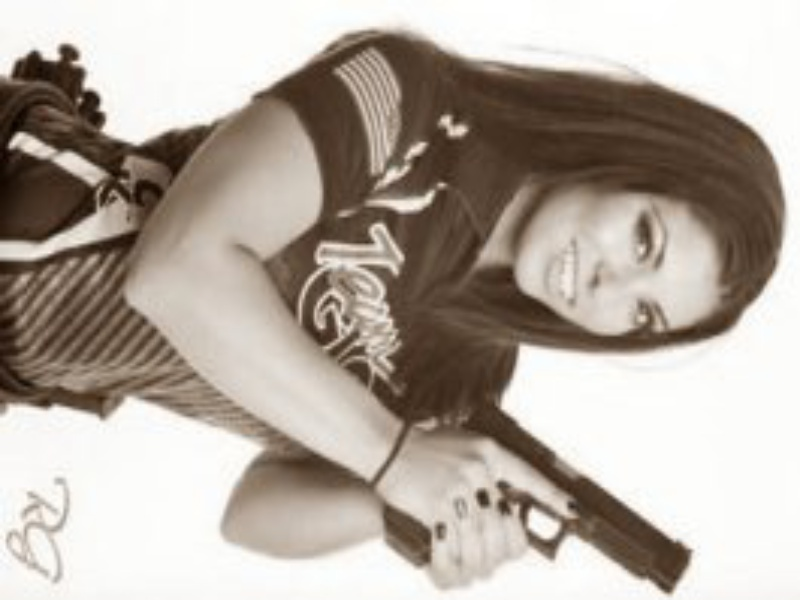axe: (499, 2, 657, 200), (424, 111, 498, 368), (357, 40, 432, 91)
